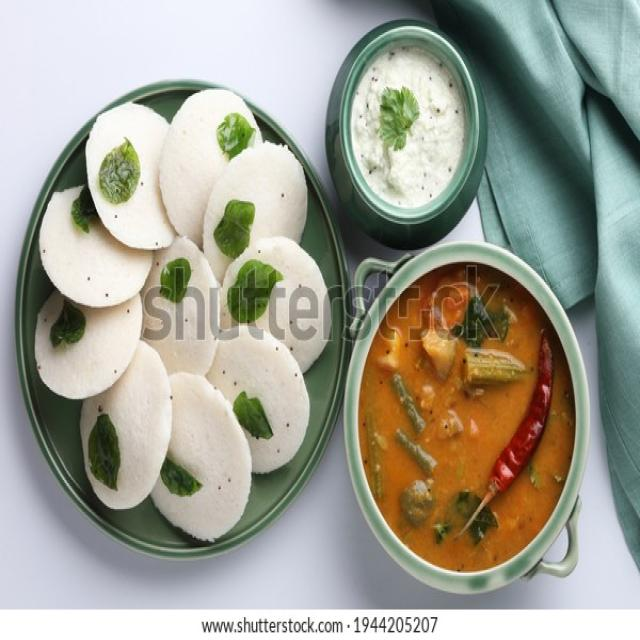IDLI: (145, 376, 253, 544), (160, 90, 259, 249), (207, 323, 312, 471), (82, 341, 173, 509), (220, 238, 331, 375), (39, 181, 153, 308), (86, 100, 175, 250), (205, 146, 303, 281), (34, 291, 141, 402), (144, 241, 217, 379)
